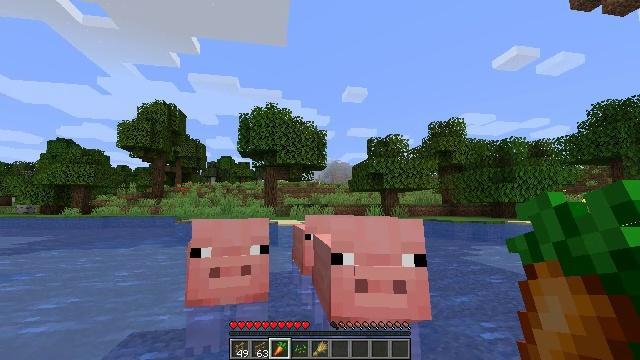pig: (308, 219, 432, 360), (186, 219, 271, 356)
